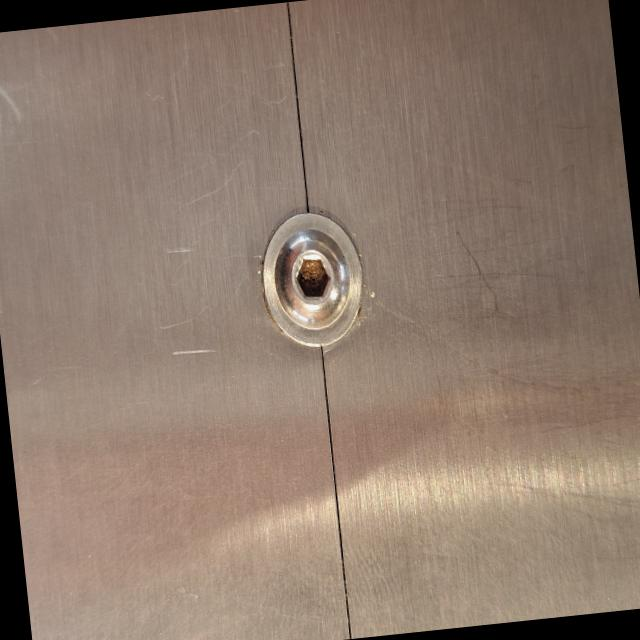Hex Socket Allen: (238, 196, 380, 364)
